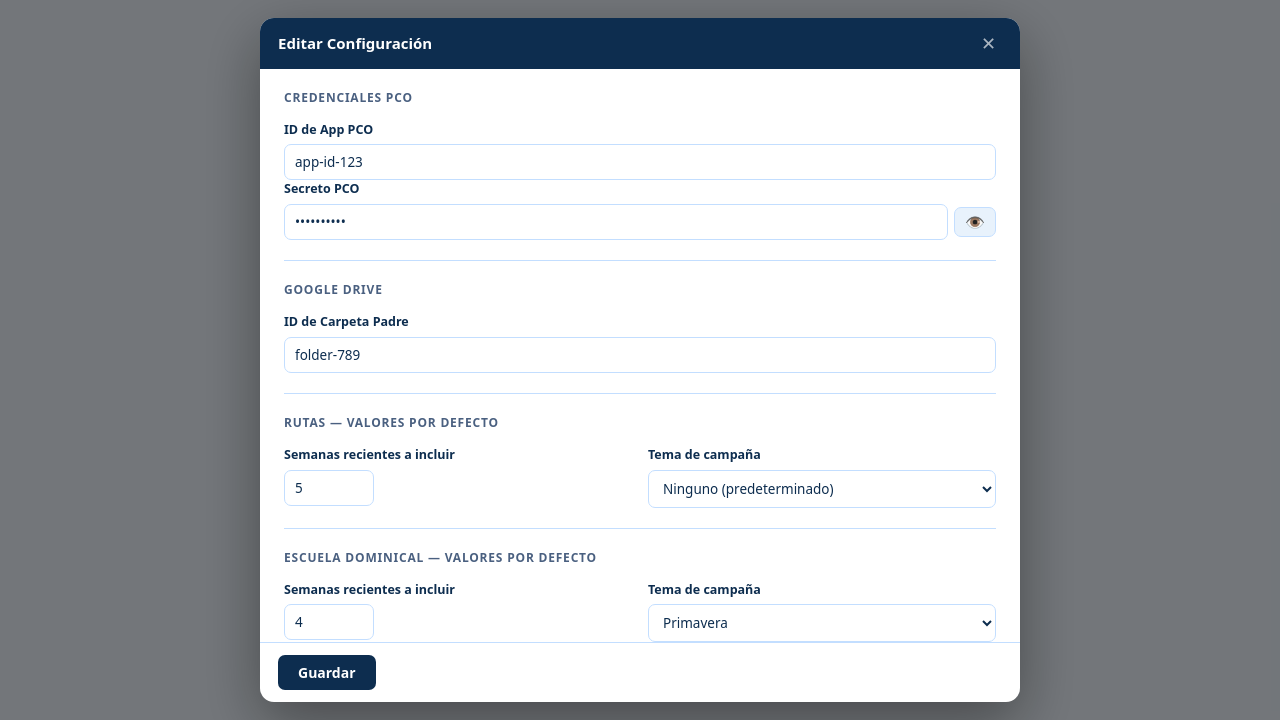
Test: SettingsModal › shows an error message when saveSettings rejects
Expected: the field showing "app-id-123" below "ID de App PCO" is shown, x1=284 y1=144 x2=996 y2=180
Click the button "Guardar".
click(327, 672)  # box x1=278 y1=655 x2=376 y2=690
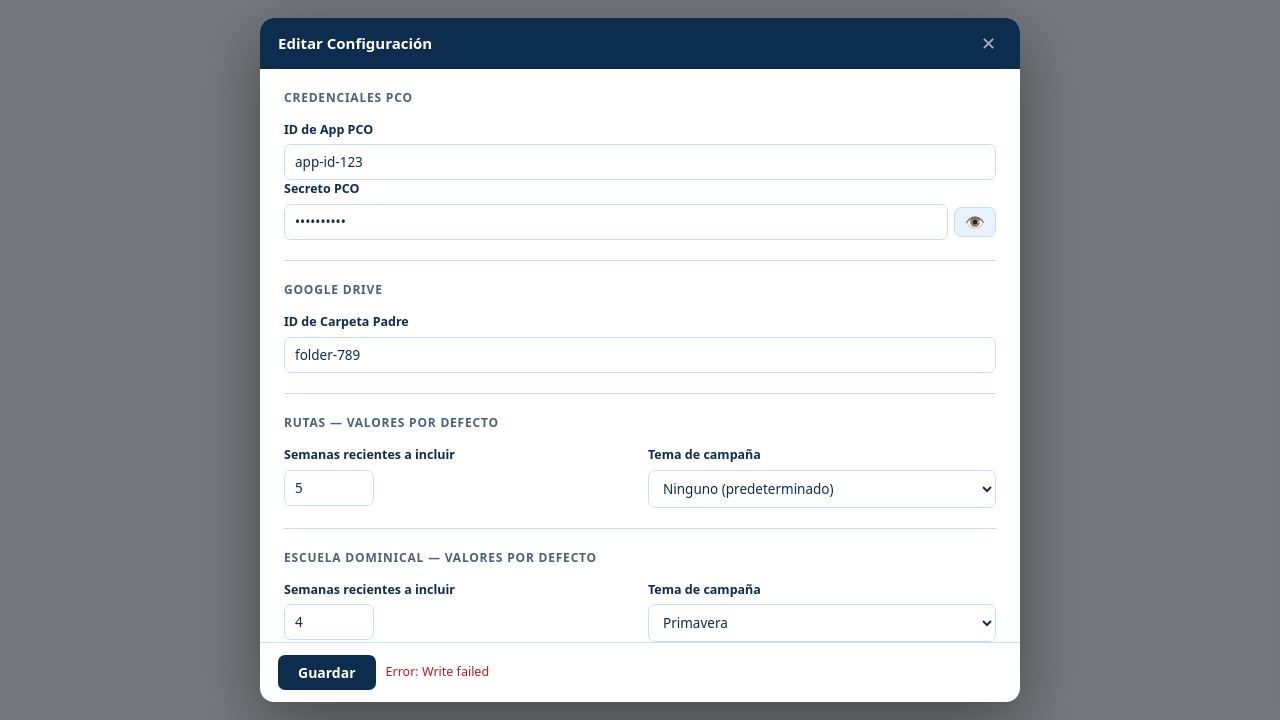
Expected: the text "Error: Write failed" is shown, x1=386 y1=663 x2=489 y2=680
